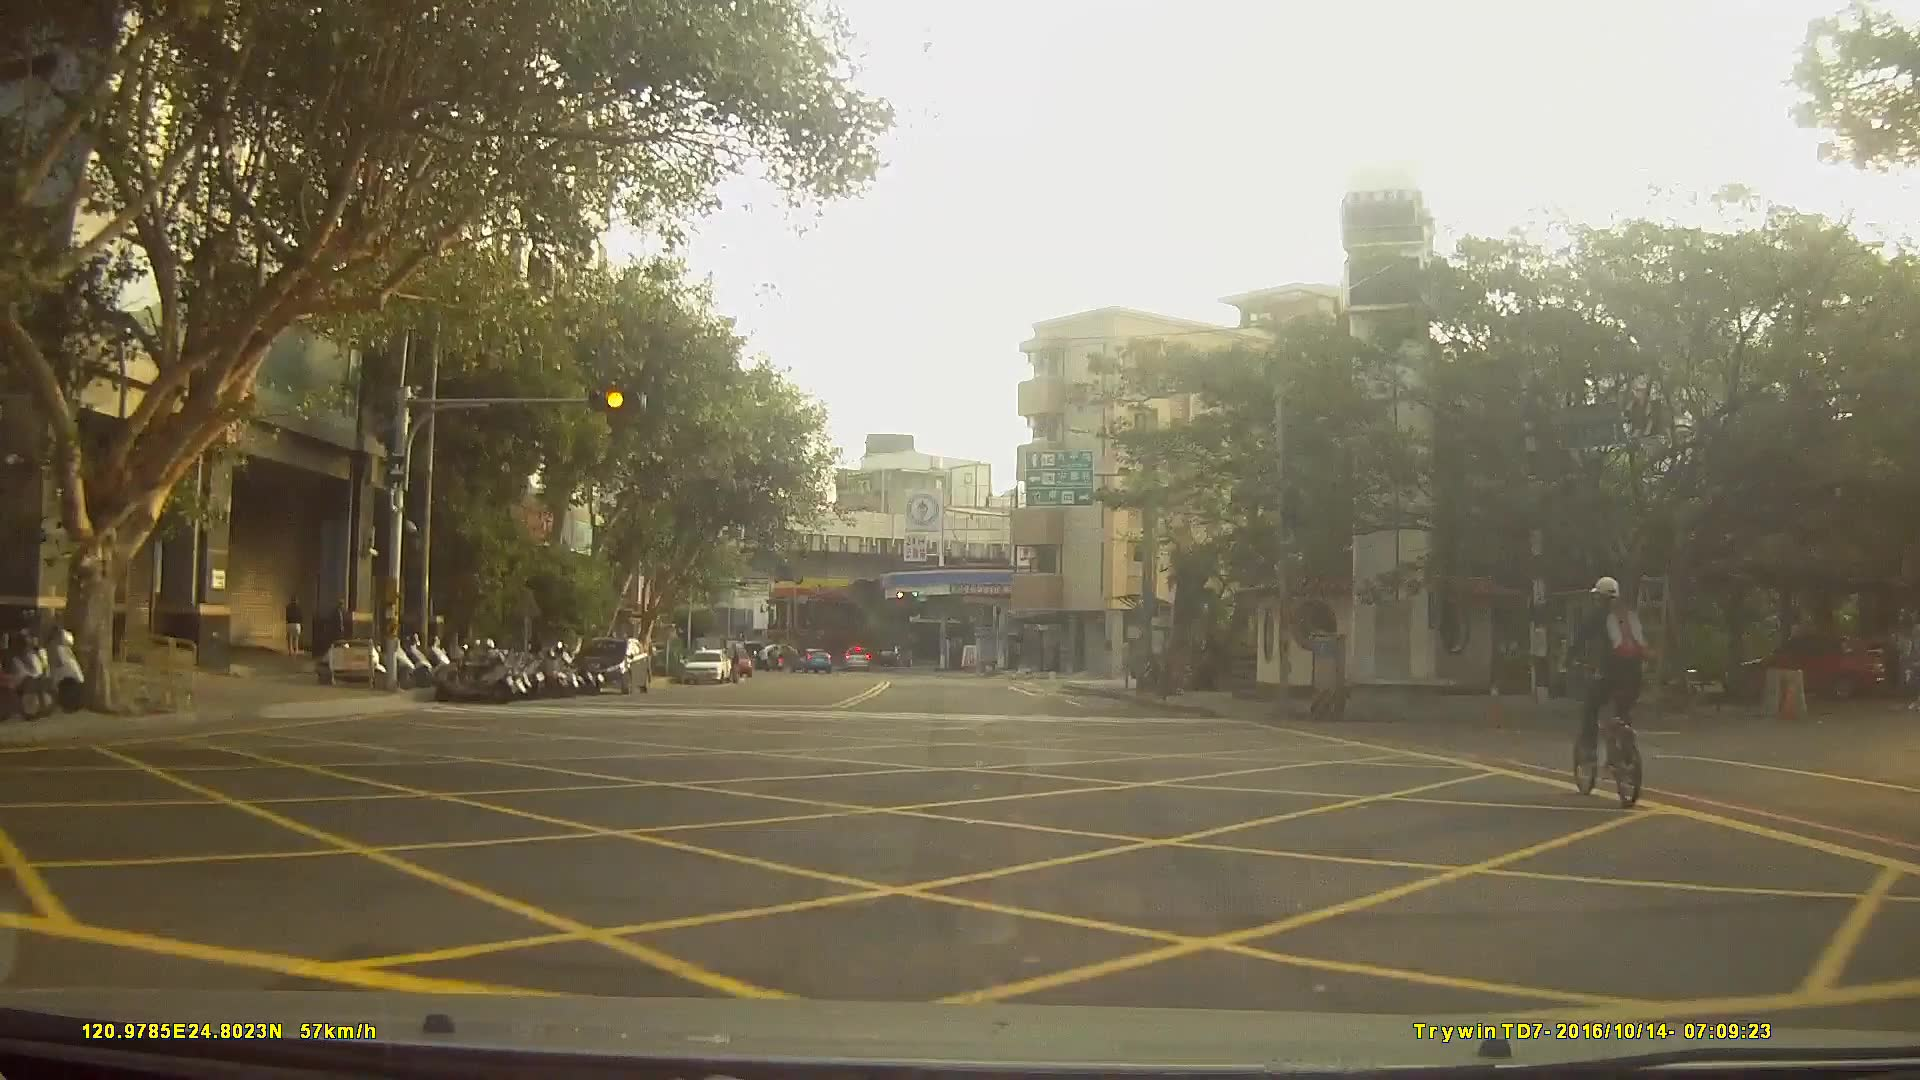pedestrian: (284, 597, 305, 660)
rider: (1555, 575, 1648, 810)
vehicle: (1722, 627, 1885, 698), (571, 635, 650, 693), (682, 646, 732, 684), (791, 643, 831, 671), (842, 644, 872, 672)
